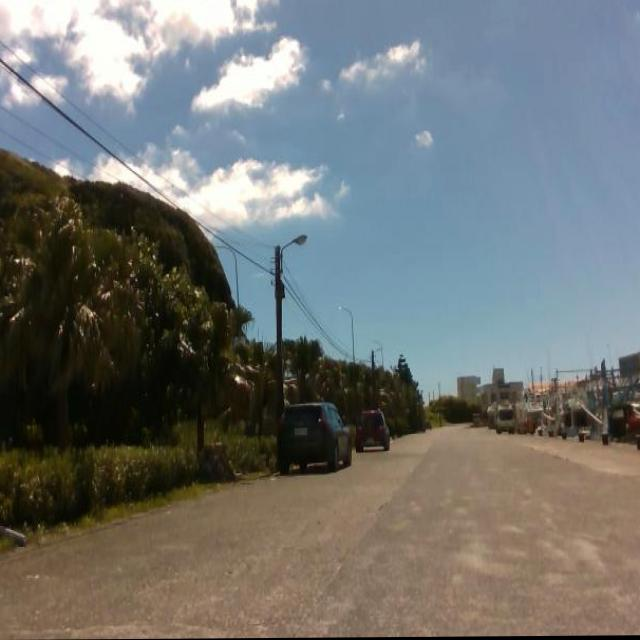pollute: (195, 433, 244, 487), (0, 516, 32, 547)
